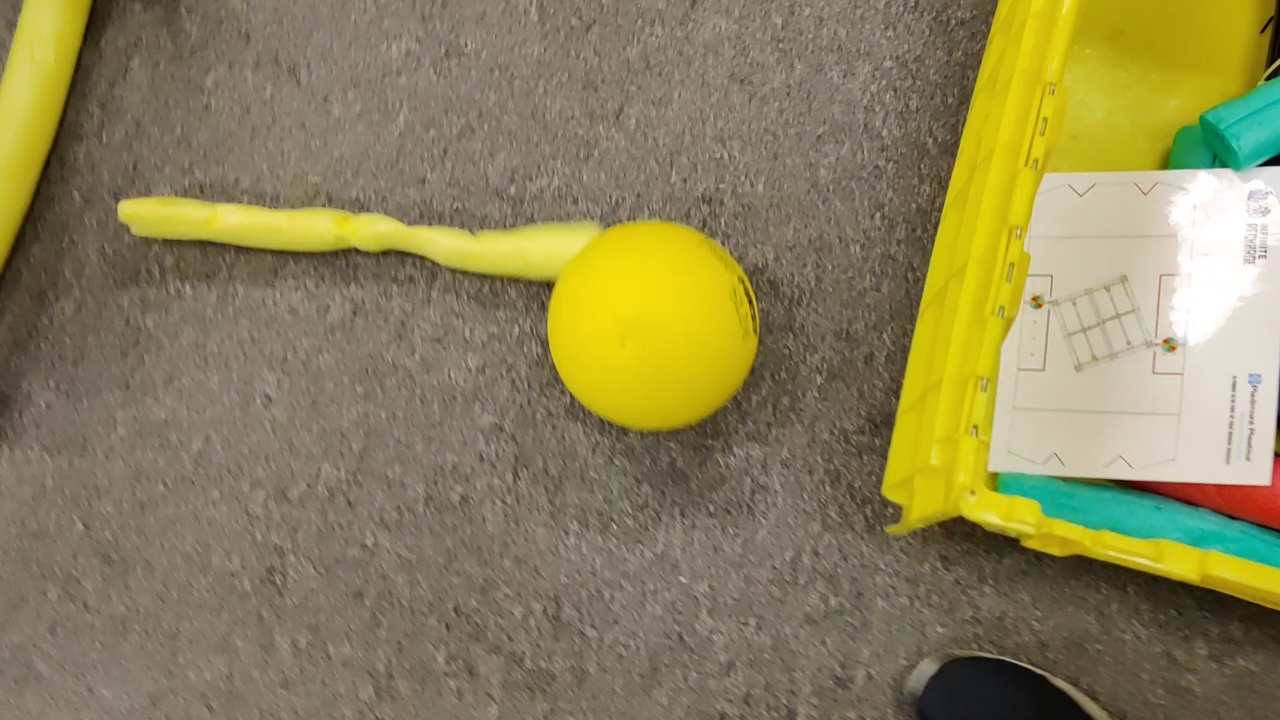Ball: (548, 221, 763, 429)
